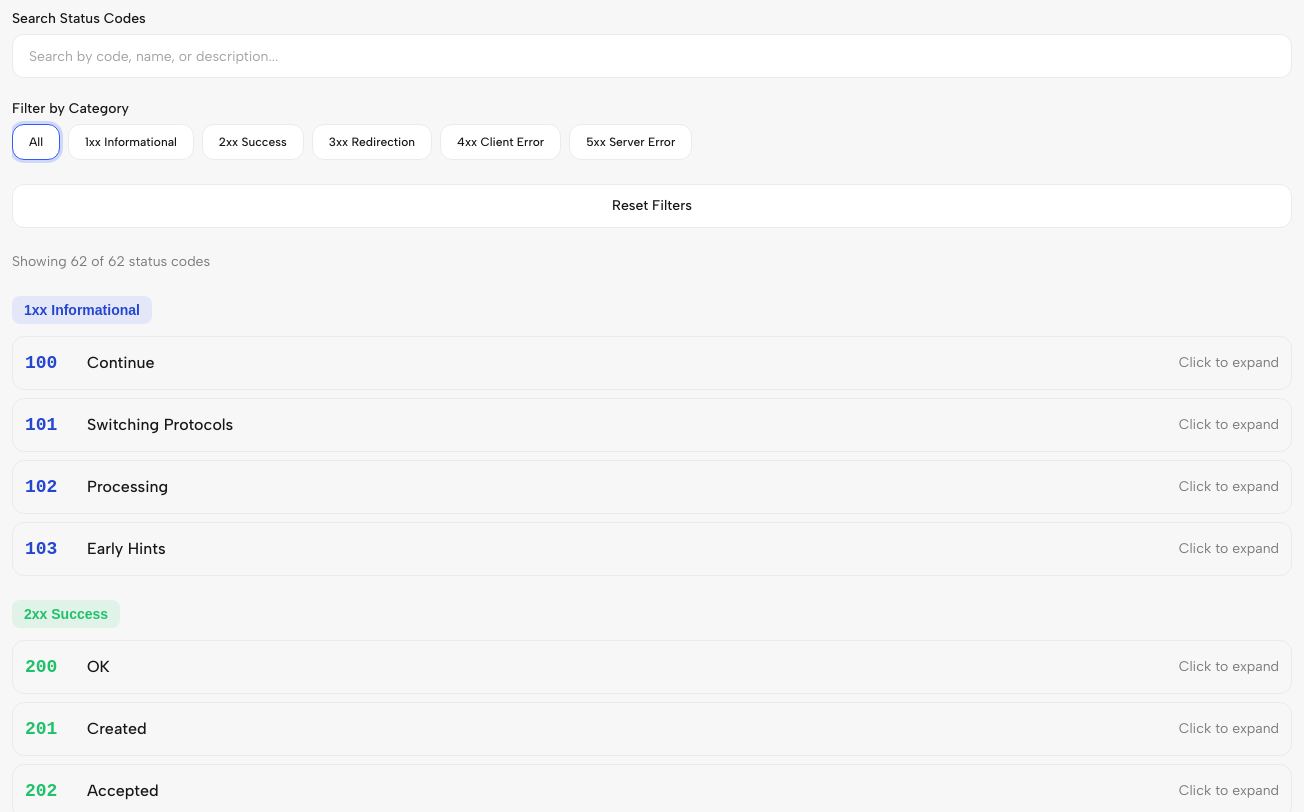
Test: HttpStatusTool › expands status code details when clicked
Click the text "200".
click(652, 667)  # box [12,640,1292,694]
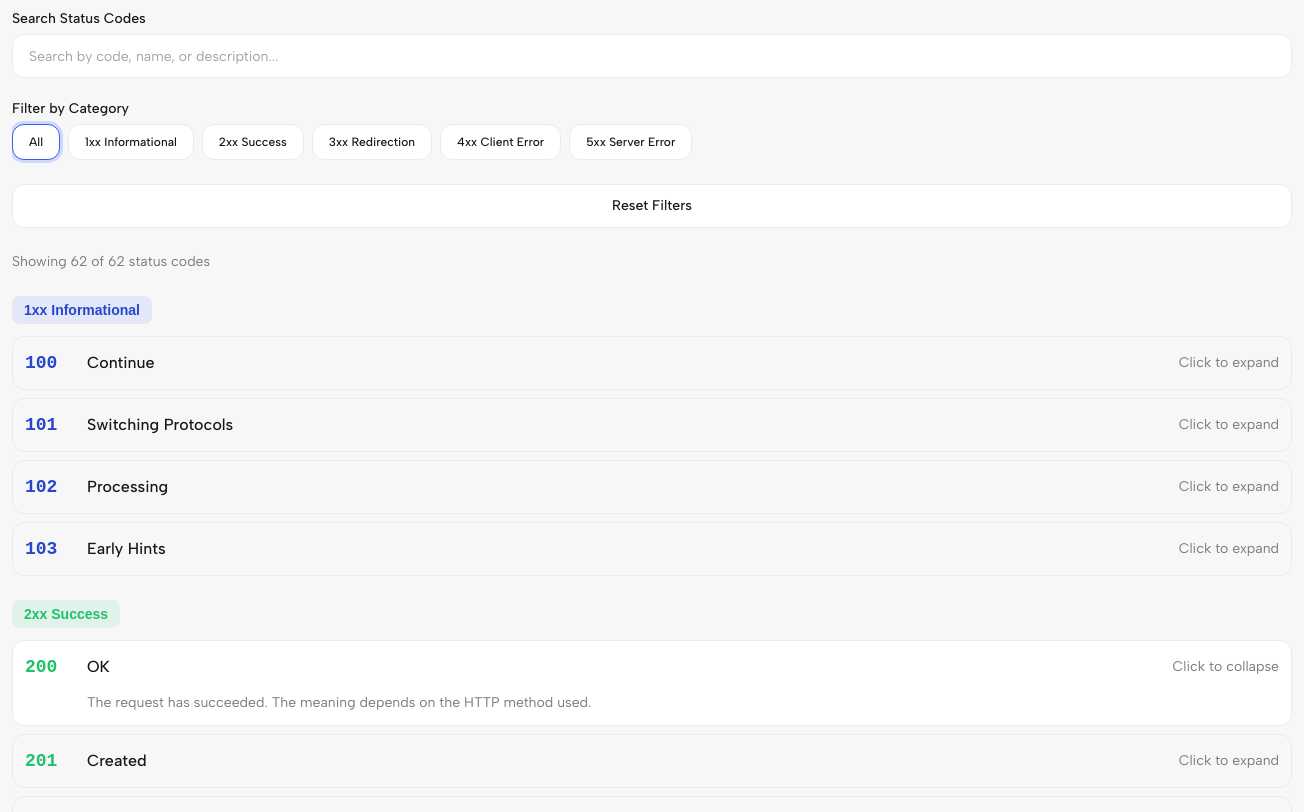
Now the text "The request has succeeded" is shown, box [87,694,591,711]
